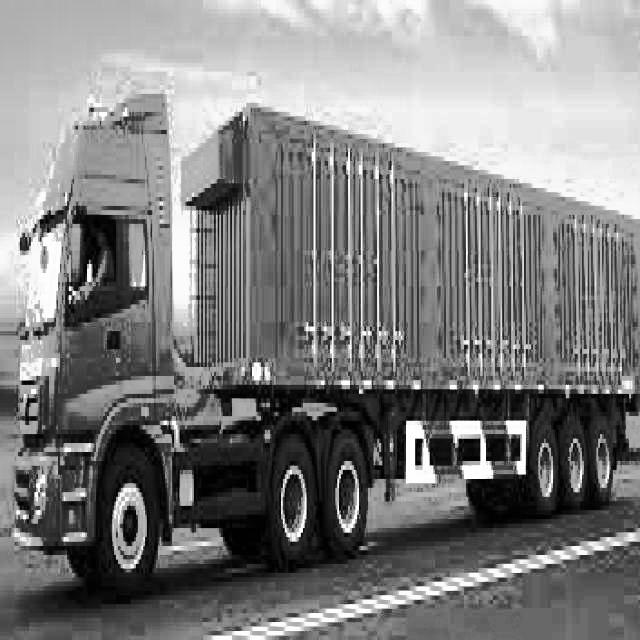HCV: (7, 55, 640, 601)
